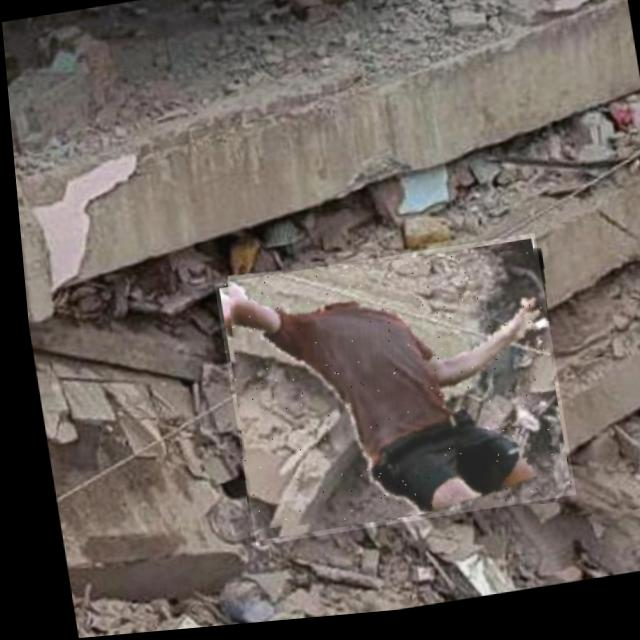Person in Rubble: (206, 241, 567, 550)
